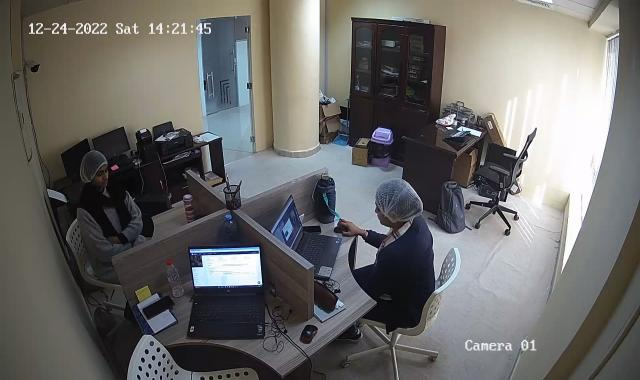hairnet: (376, 177, 421, 228), (79, 149, 109, 190)
